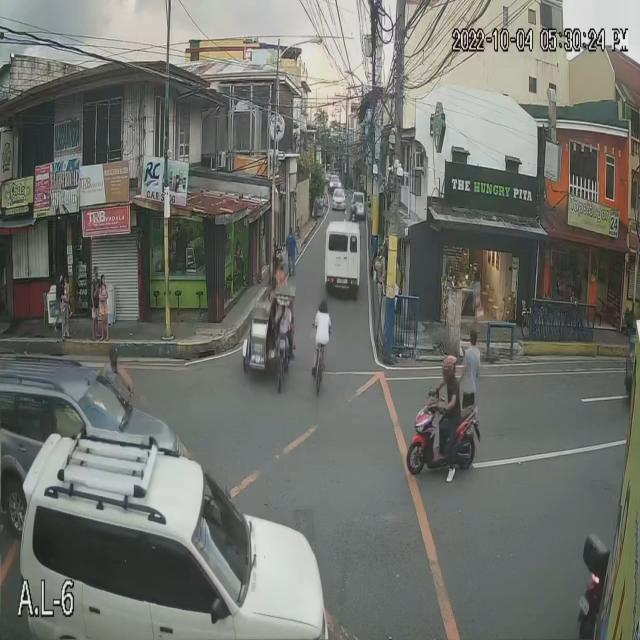full: (442, 356, 457, 382)
